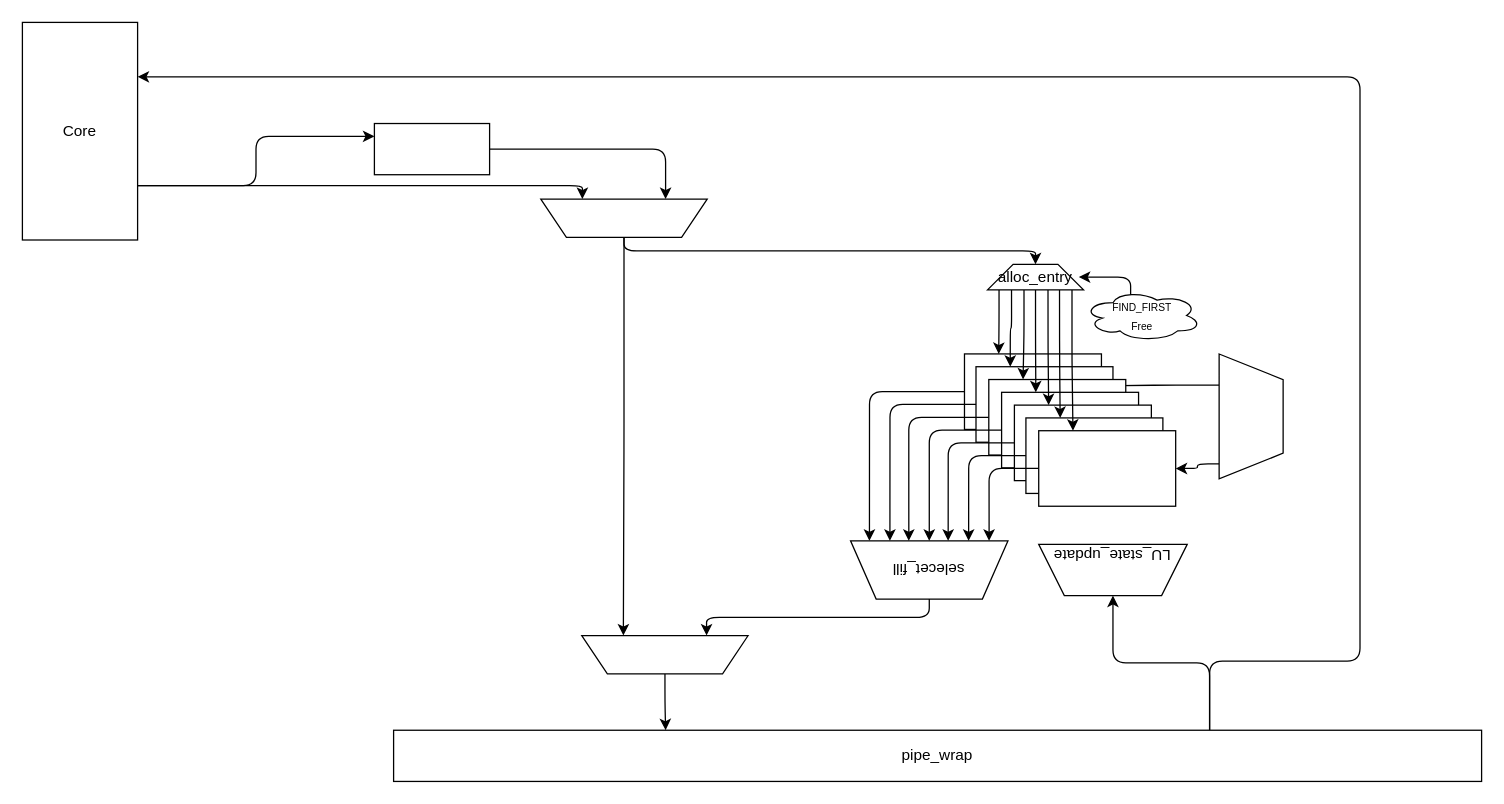
Image size: 1504x804. Some labels were removed from this diagram. The shapes that lost their labels are listed below. From the top down, each one's centre as x and y in pixels, then its label:
the point at 431,148: re-issue
the point at 623,217: re-issue mux
the point at 1250,416: FILL MATCH
